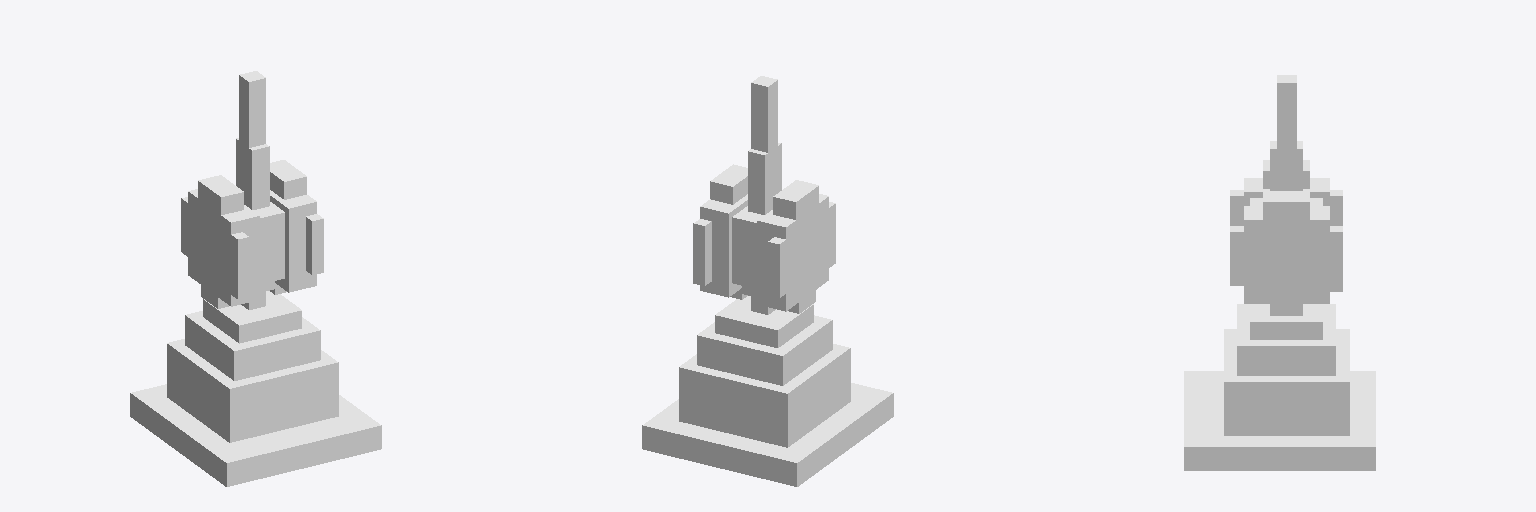
The model's file is LaserTower0.obj.
3 renders of one model, left to right at view 1: azimuth 30°, elevation 25°; view 2: azimuth 150°, elevation 25°; view 3: azimuth 270°, elevation 25°, orthographic.
Visible parts, largest first — view 1: LaserTower0; view 2: LaserTower0; view 3: LaserTower0.
Boxes of the visible parts, x1=… form: LaserTower0: x1=130, y1=71, x2=381, y2=486; LaserTower0: x1=642, y1=76, x2=893, y2=486; LaserTower0: x1=1184, y1=75, x2=1375, y2=470.
Bounding box in the file's own units: 27 × 59 × 29.